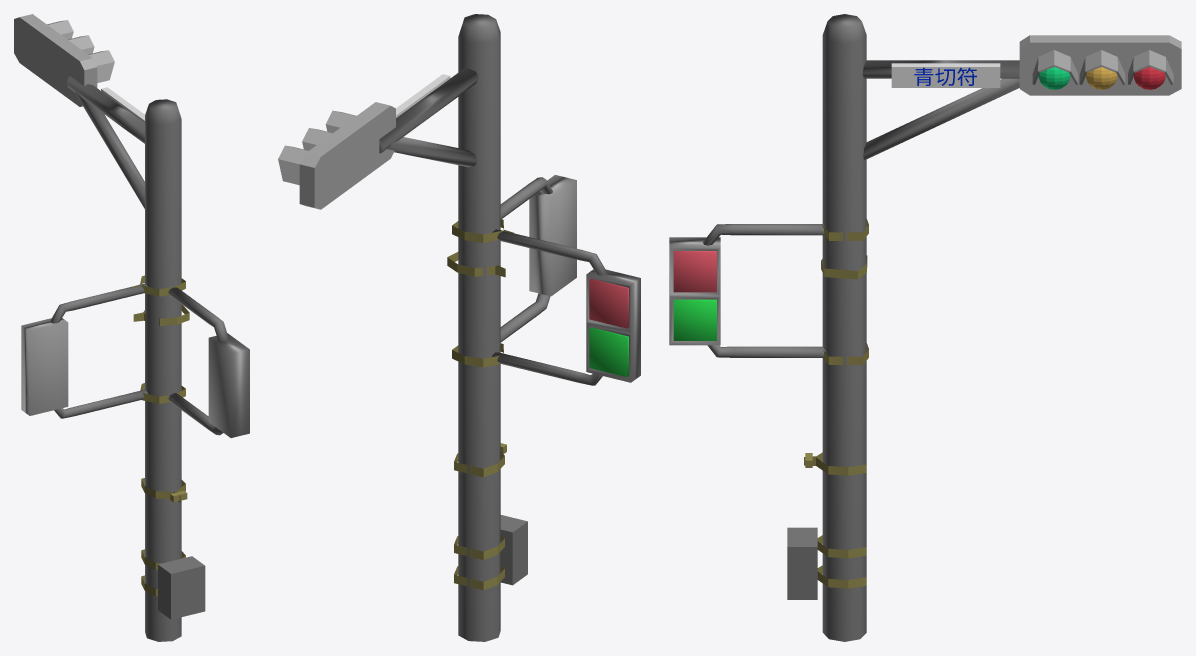
File: 信号機.fbx
3 views of the same model, side by side, from view 1: azimuth 30°, elevation 25°; view 2: azimuth 150°, elevation 25°; view 3: azimuth 270°, elevation 25° (orthographic). The views are drawn at different scales.
Visible parts, largest first — view 1: Cylinder, Cube.001, Cube.004; view 2: Cylinder, Cube.004, Cube.001, Cube.005, Cube.006; view 3: Cylinder, Cube.004, Cube.002, Cube.003.
Boxes of the visible parts, x1=… form: Cylinder: x1=14, y1=14, x2=205, y2=641; Cube.001: x1=21, y1=283, x2=147, y2=418; Cube.004: x1=168, y1=287, x2=249, y2=437; Cylinder: x1=278, y1=14, x2=527, y2=641; Cube.004: x1=500, y1=175, x2=576, y2=342; Cube.001: x1=492, y1=229, x2=640, y2=385; Cube.005: x1=589, y1=278, x2=628, y2=328; Cube.006: x1=589, y1=327, x2=628, y2=376; Cylinder: x1=787, y1=14, x2=1181, y2=641; Cube.004: x1=669, y1=224, x2=825, y2=357; Cube.002: x1=673, y1=299, x2=716, y2=340; Cube.003: x1=673, y1=251, x2=716, y2=292.
Size of the model in its own units: 790 by 2310 by 1755.
